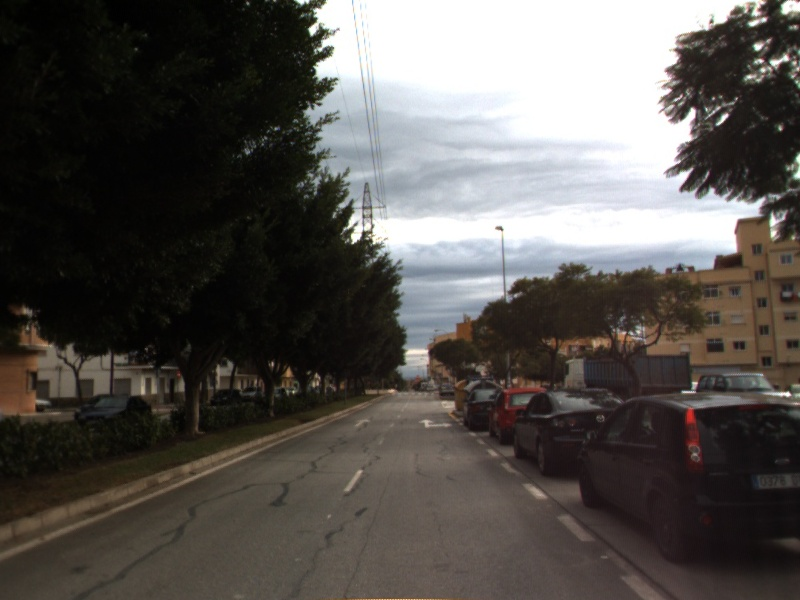STRAIGHT: (352, 416, 373, 429)
STRAIGHT_RIGHT: (416, 417, 455, 430)
